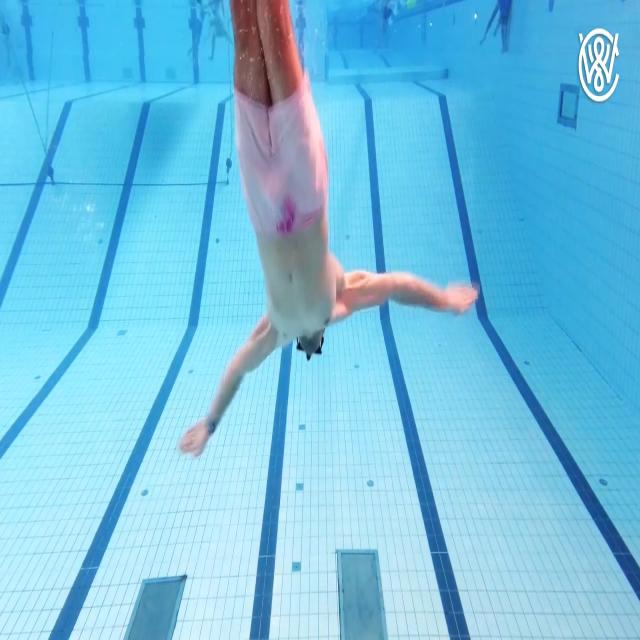Swimming: (176, 0, 480, 457)
